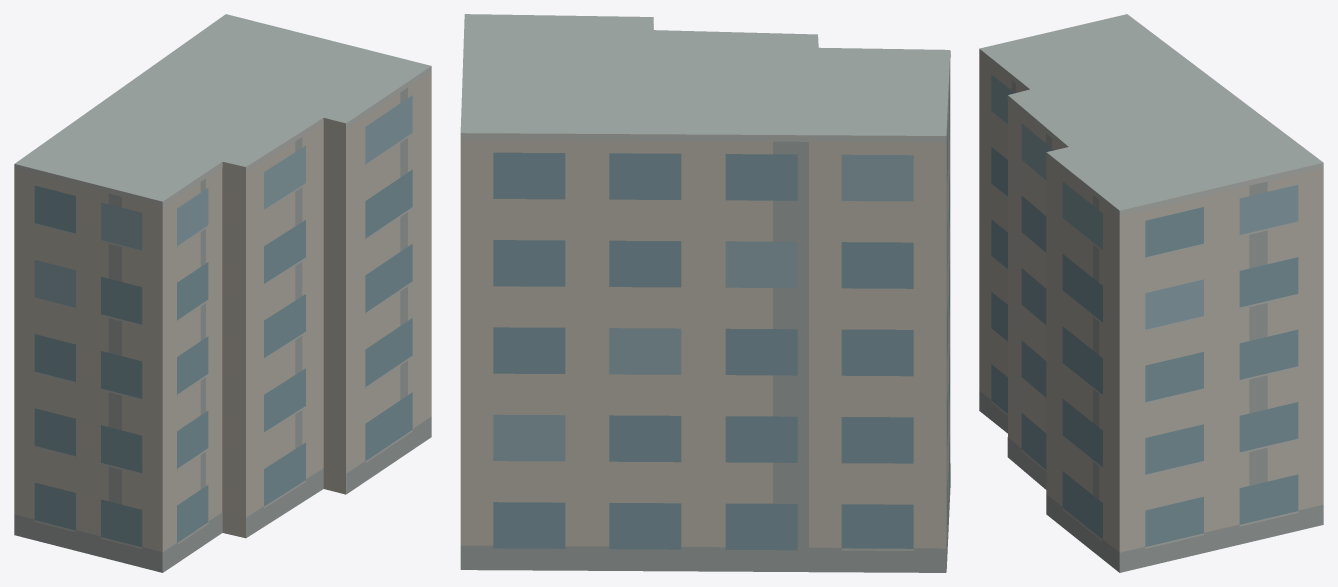
File: survey-upis-32982982.glb
3 views of the same model, side by side, from view 1: azimuth 30°, elevation 25°; view 2: azimuth 150°, elevation 25°; view 3: azimuth 270°, elevation 25° (orthographic). The views are drawn at different scales.
Visible parts, largest first — view 1: survey-upis-32982982.tmp; view 2: survey-upis-32982982.tmp; view 3: survey-upis-32982982.tmp.
Part boxes in pixels (box(x1,y1,x2,y2)): survey-upis-32982982.tmp: box(14, 14, 431, 572); survey-upis-32982982.tmp: box(460, 14, 950, 572); survey-upis-32982982.tmp: box(979, 14, 1323, 572).
Size of the model in its own units: 18.63 by 15.98 by 13.78.
